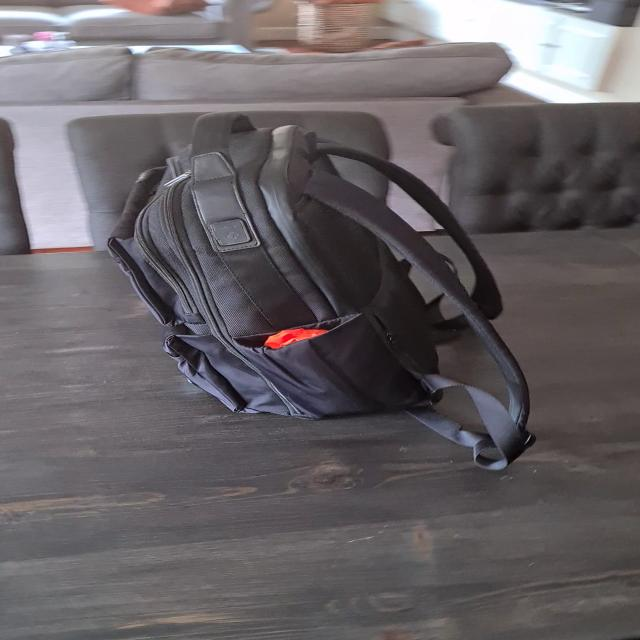backpack: (76, 100, 493, 426)
